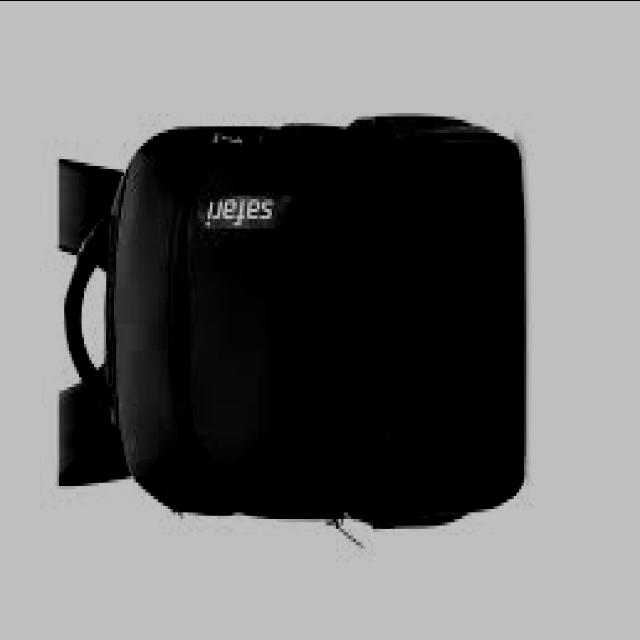backpack: (58, 114, 525, 536)
